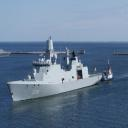Fragata: (7, 39, 105, 104)
